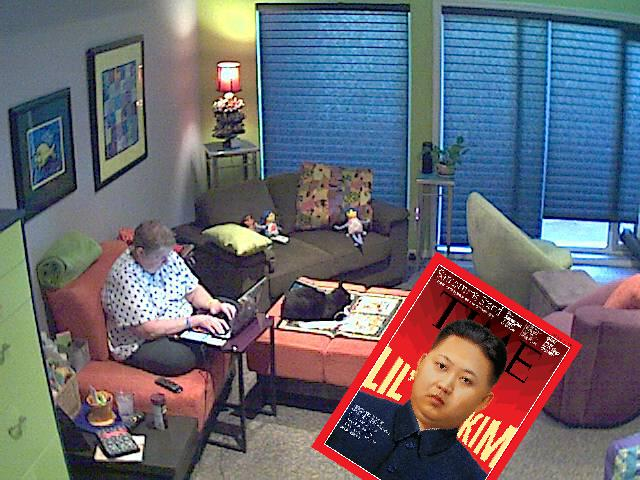times: (310, 248, 587, 480)
